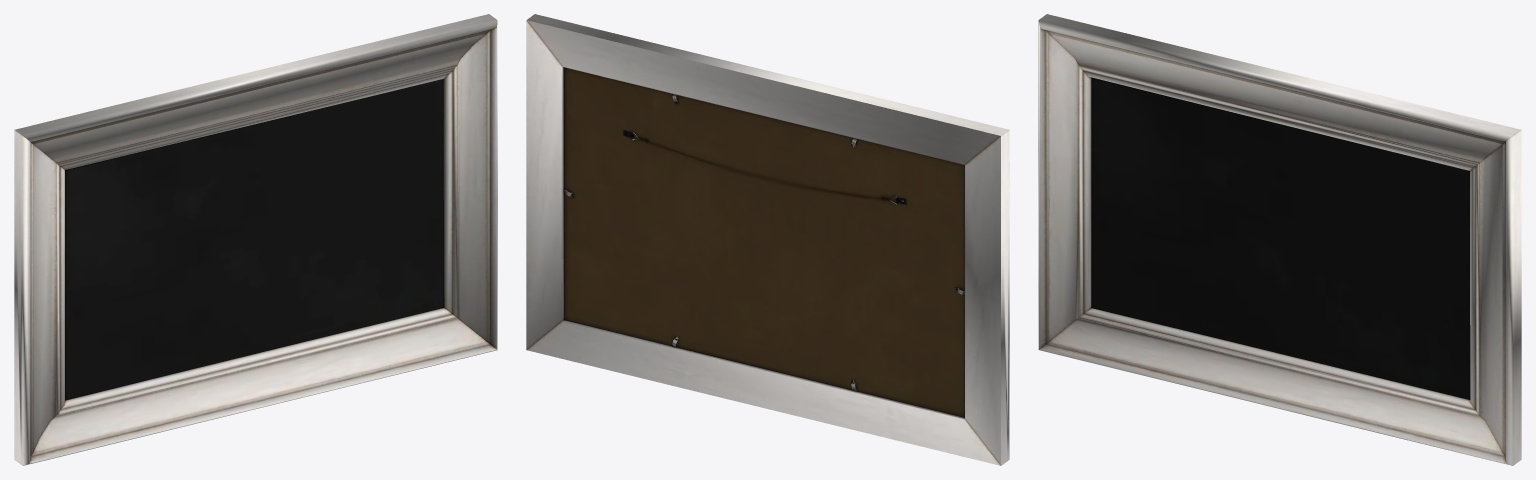
Rendered from hanging_picture_frame_02.glb.
3 renders of one model, left to right at view 1: azimuth 30°, elevation 25°; view 2: azimuth 150°, elevation 25°; view 3: azimuth 330°, elevation 25°, orthographic.
Visible parts, largest first — view 1: hanging_picture_frame_02; view 2: hanging_picture_frame_02; view 3: hanging_picture_frame_02.
Part boxes in pixels (<box>): hanging_picture_frame_02: <box>14,14,497,465</box>; hanging_picture_frame_02: <box>526,14,1009,465</box>; hanging_picture_frame_02: <box>1038,14,1521,465</box>.
Size of the model in its own units: 0.7512 by 0.4988 by 0.0321.
Materials: 3 (3 with a texture image).
